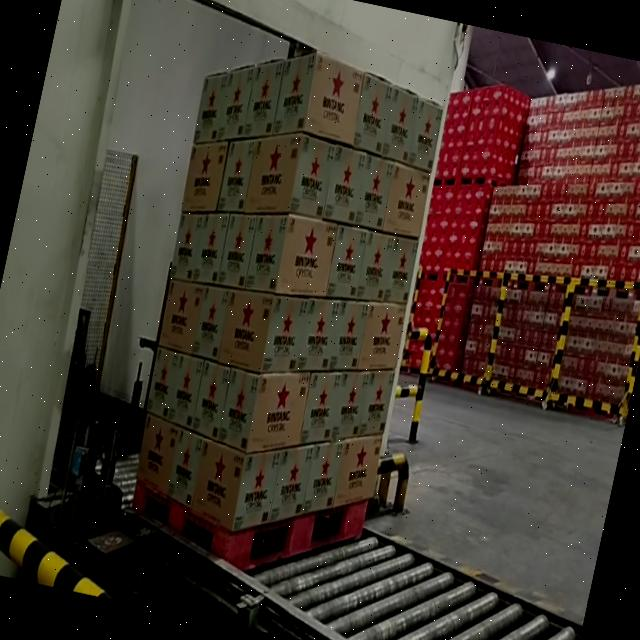pallet: (100, 21, 468, 610)
